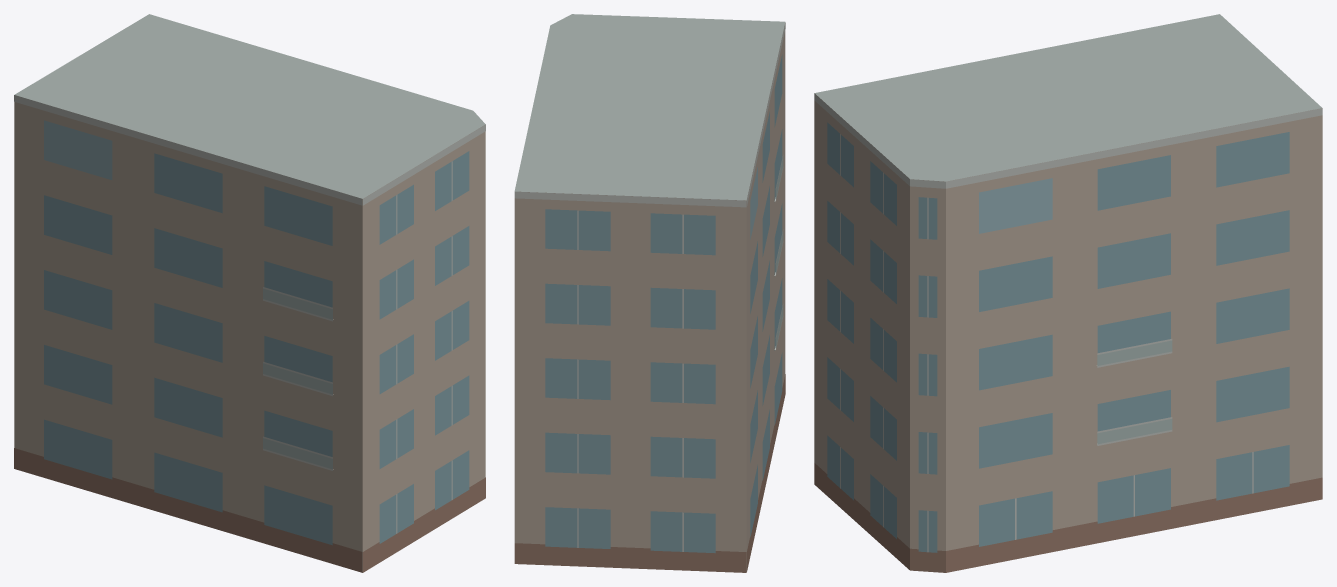
The model's file is survey-upis-32876657.glb.
3 renders of one model, left to right at view 1: azimuth 30°, elevation 25°; view 2: azimuth 150°, elevation 25°; view 3: azimuth 270°, elevation 25°, orthographic. The views are drawn at different scales.
Parts seen in each view (by area): view 1: survey-upis-32876657.tmp; view 2: survey-upis-32876657.tmp; view 3: survey-upis-32876657.tmp.
Part boxes in pixels (<box>): survey-upis-32876657.tmp: <box>14,14,485,572</box>; survey-upis-32876657.tmp: <box>514,14,785,572</box>; survey-upis-32876657.tmp: <box>814,14,1322,572</box>.
Size of the model in its own units: 12.13 by 13.2 by 15.55.
